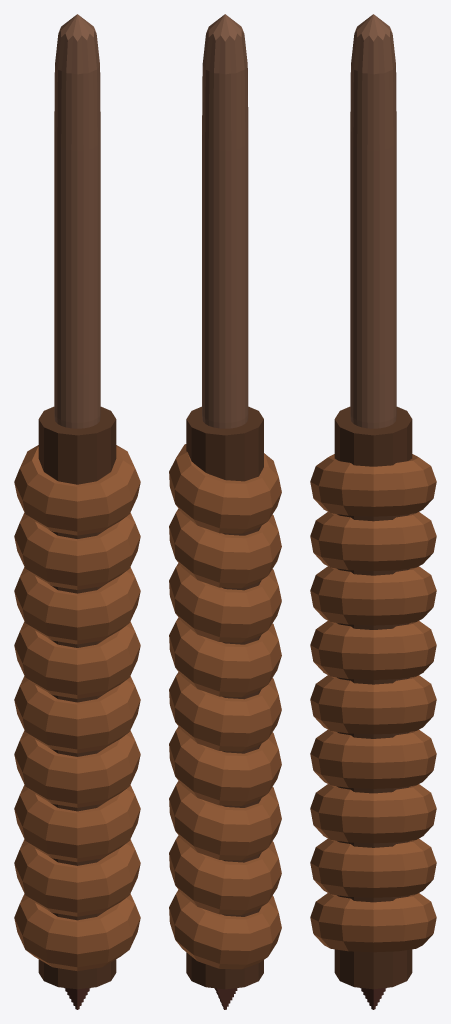
The model's file is Wand 414.glb.
3 views of the same model, side by side, from view 1: azimuth 90°, elevation 25°; view 2: azimuth 150°, elevation 25°; view 3: azimuth 270°, elevation 25° (orthographic).
Visible parts, largest first — view 1: GeneratedWand; view 2: GeneratedWand; view 3: GeneratedWand.
Boxes of the visible parts, x1,y1,x2,y2 form: GeneratedWand: (14, 14, 140, 1009); GeneratedWand: (169, 14, 281, 1009); GeneratedWand: (310, 14, 436, 1009).
Size of the model in its own units: 0.0497 by 0.5043 by 0.0581.
